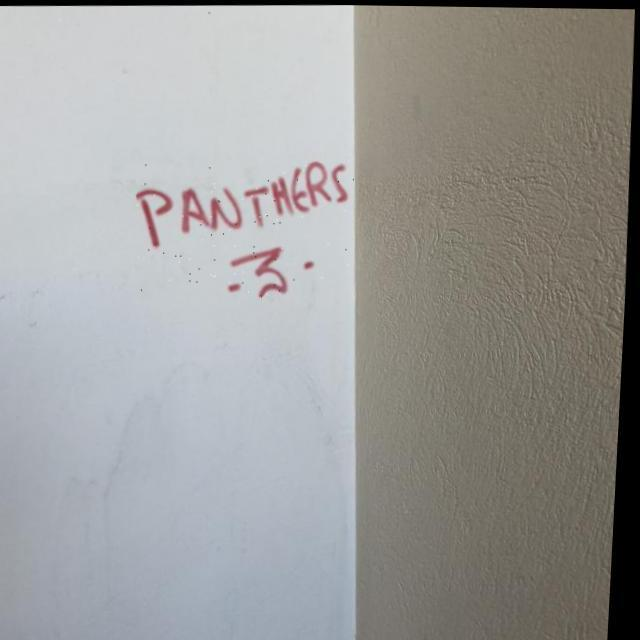-: (134, 158, 358, 298)
